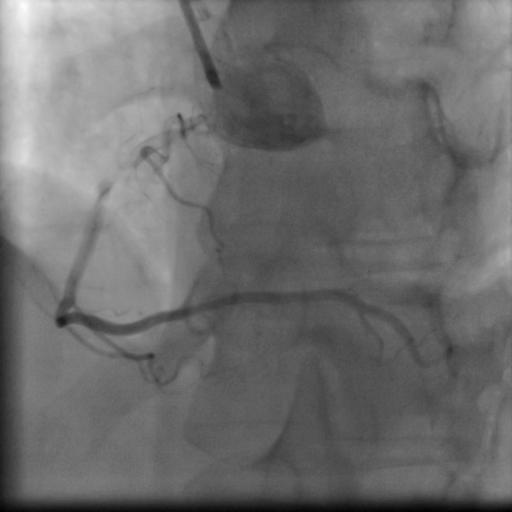Stenosis: (95, 161, 121, 186)
